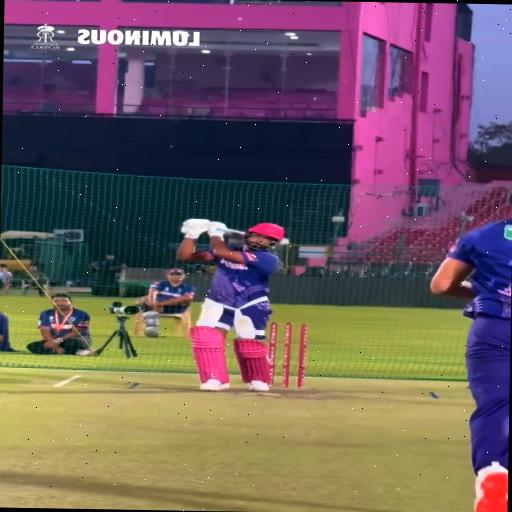Cricket bat: (227, 228, 245, 238), (279, 238, 290, 245)
